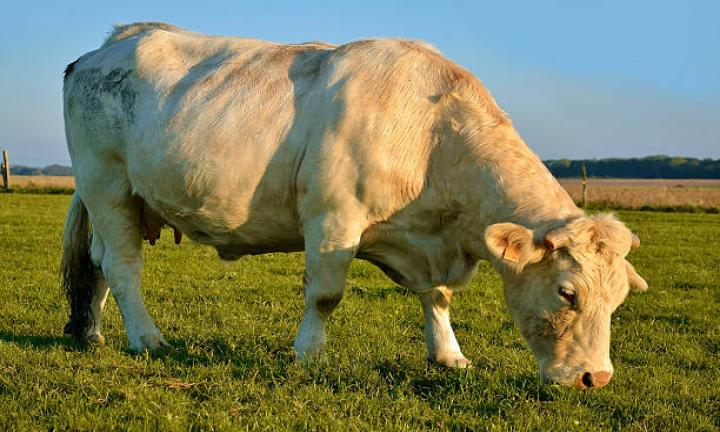Charolais: (62, 22, 646, 387)
